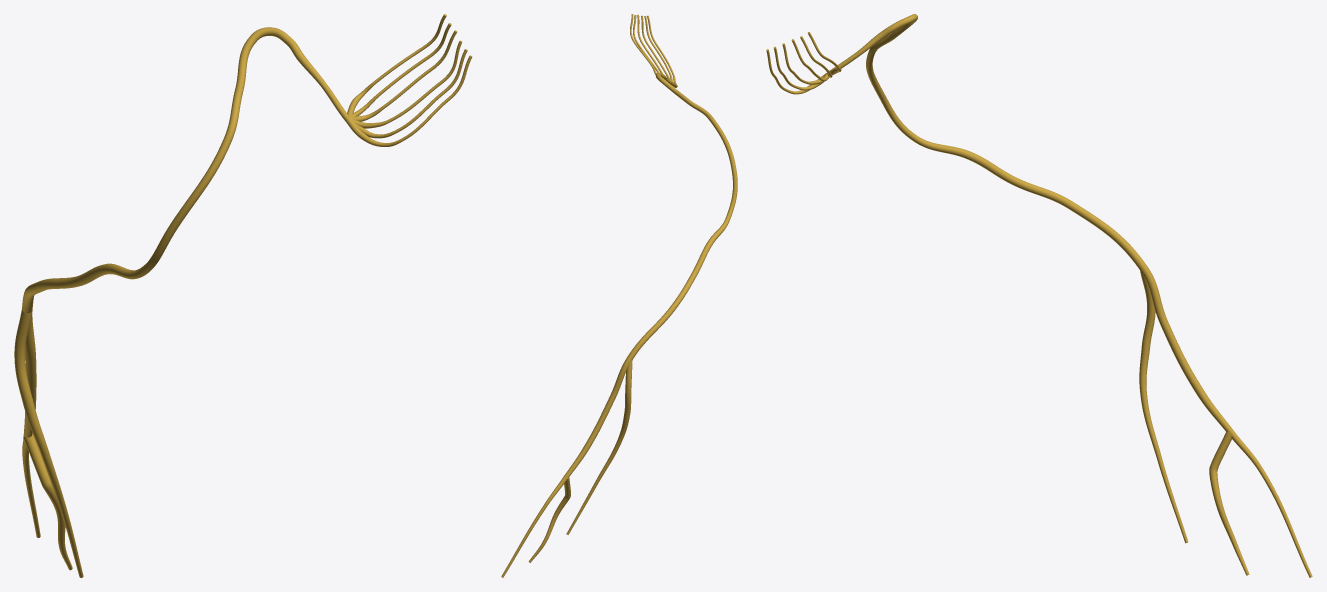
The picture shows the model from 3 angles, left to right: view 1: azimuth 30°, elevation 25°; view 2: azimuth 150°, elevation 25°; view 3: azimuth 270°, elevation 25°; orthographic projection. The views are drawn at different scales.
Visible parts, largest first — view 1: 右侧舌下神经; view 2: 右侧舌下神经; view 3: 右侧舌下神经.
Boxes of the visible parts, left/top/right/bottom form: 右侧舌下神经: left=14, top=14, right=472, bottom=577; 右侧舌下神经: left=501, top=14, right=737, bottom=577; 右侧舌下神经: left=766, top=14, right=1312, bottom=577.
Size of the model in its own units: 0.039 by 0.1116 by 0.0951.
